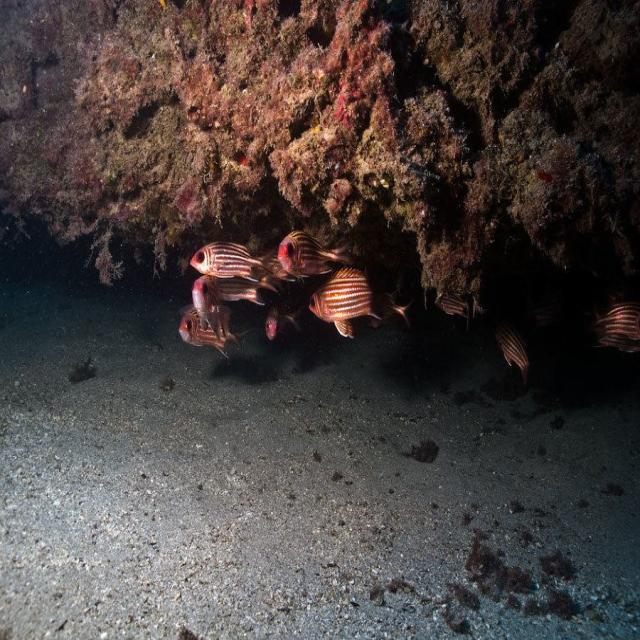Asker Baligi: (302, 266, 421, 338), (185, 232, 273, 292), (276, 222, 359, 280)
